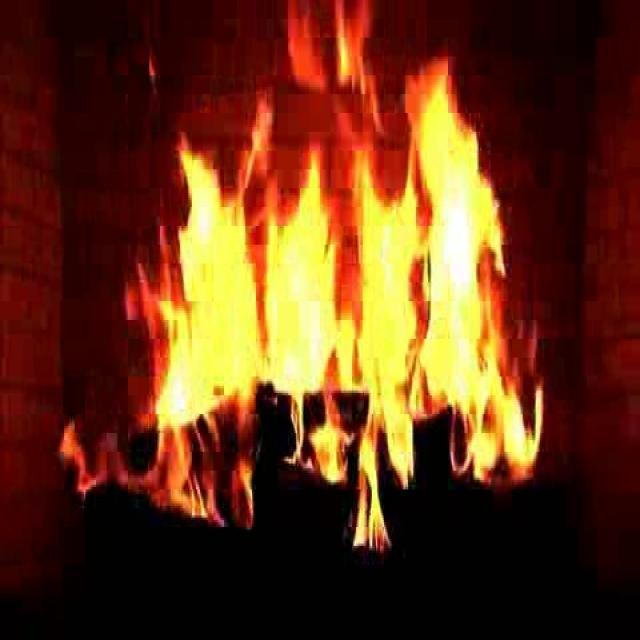Fire: (132, 66, 526, 526)
